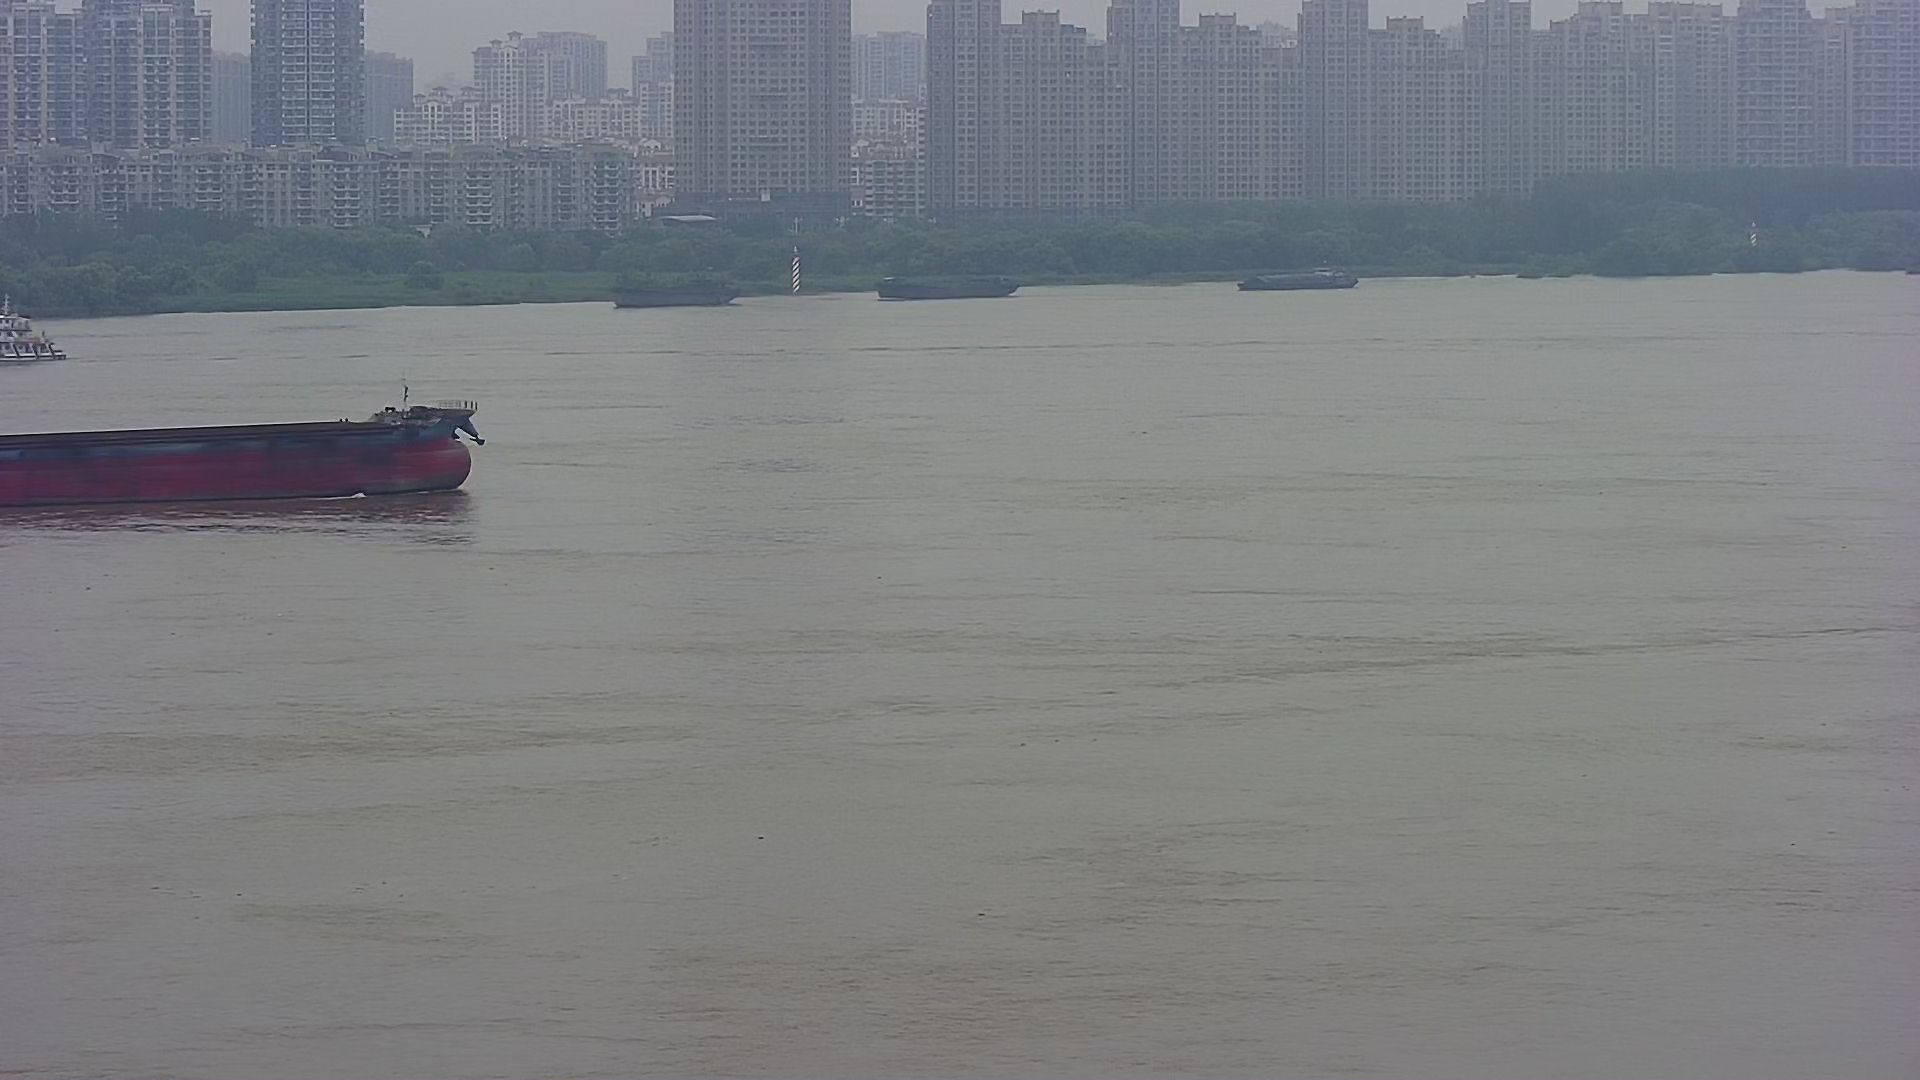ship: (1, 377, 493, 521), (872, 255, 1030, 313), (607, 269, 754, 322), (1226, 258, 1379, 298)
